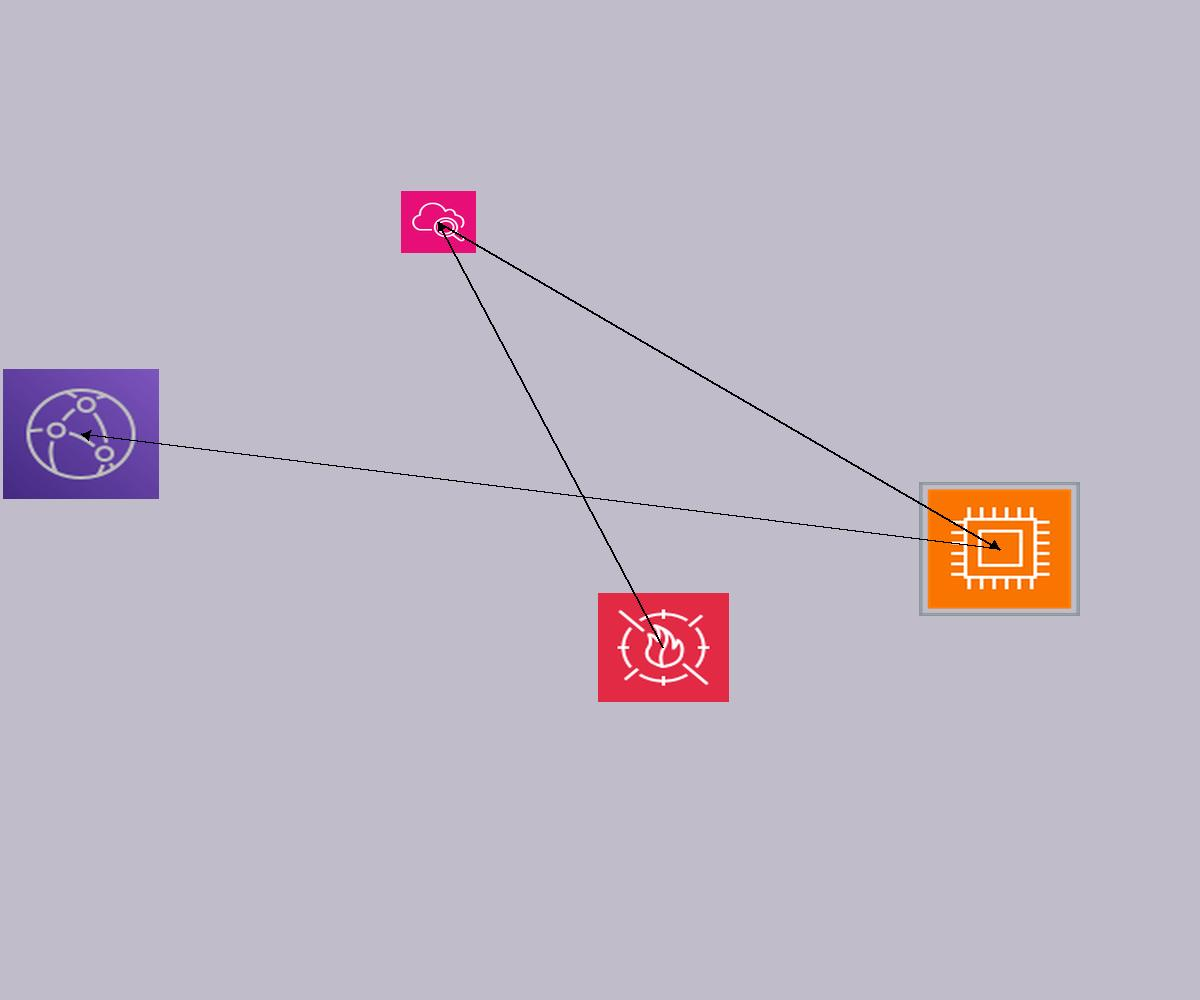AWS-Category_Compute: (919, 482, 1080, 616)
AWS-CloudFront: (3, 369, 159, 499)
AWS-CloudWatch: (401, 191, 476, 253)
AWS-WAF: (598, 593, 729, 702)
